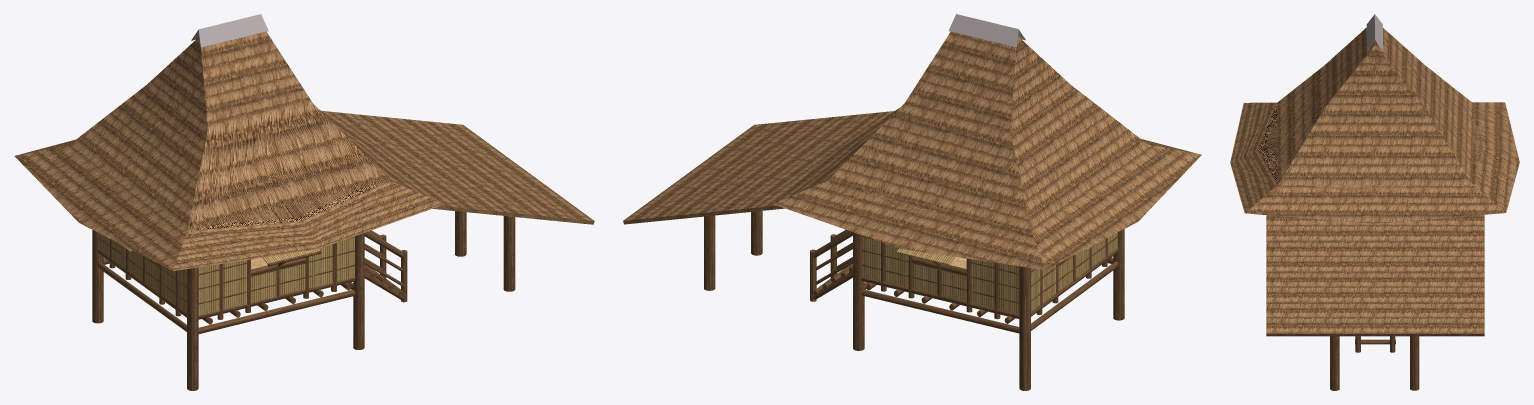
File: cuad.fbx
3 renders of one model, left to right at view 1: azimuth 30°, elevation 25°; view 2: azimuth 150°, elevation 25°; view 3: azimuth 270°, elevation 25°, orthographic. The views are drawn at different scales.
Visible parts, largest first — view 1: Atop, Cube.011, WallSIde.001, PillarWindow.001, WallSIde, Cylinder.016, Atop2, Cylinder.008, Cylinder.015, Cylinder.083, Cylinder.006, Cylinder.084 (+1 smaller); view 2: Atop, Cube.011, WallSIde.002, PillarWindow, PillarWindow.001, WallSIde, Atop2, Cylinder.016, Cylinder.021, Cylinder.084, Cylinder.069, Cylinder.083; view 3: Atop, Cube.011, Cylinder.083, Cylinder.084, Atop2.
Part boxes in pixels (x1,y1,x2,y2): Atop: (14, 31, 444, 270); Cube.011: (322, 111, 594, 224); WallSIde.001: (198, 237, 354, 315); PillarWindow.001: (92, 230, 186, 331); WallSIde: (99, 233, 186, 312); Cylinder.016: (187, 267, 198, 390); Atop2: (191, 14, 268, 47); Cylinder.008: (353, 233, 364, 349); Cylinder.015: (198, 289, 355, 333); Cylinder.083: (503, 216, 515, 291); Cylinder.006: (198, 277, 355, 319); Cylinder.084: (455, 211, 466, 256); Atop: (773, 31, 1201, 269); Cube.011: (623, 111, 893, 224); WallSIde.002: (862, 237, 1019, 313); PillarWindow: (853, 232, 1019, 350); PillarWindow.001: (1019, 238, 1118, 390); WallSIde: (1031, 232, 1117, 311); Atop2: (948, 14, 1025, 47); Cylinder.016: (1113, 229, 1124, 320); Cylinder.021: (861, 276, 1019, 318); Cylinder.084: (704, 215, 715, 290); Cylinder.069: (862, 235, 1019, 303); Cylinder.083: (751, 211, 762, 255); Atop: (1230, 28, 1519, 223); Cube.011: (1266, 215, 1484, 336); Cylinder.083: (1330, 336, 1339, 390); Cylinder.084: (1410, 336, 1419, 390); Atop2: (1366, 14, 1383, 51).
Size of the model in its own units: 3.25 by 2.18 by 2.16.
